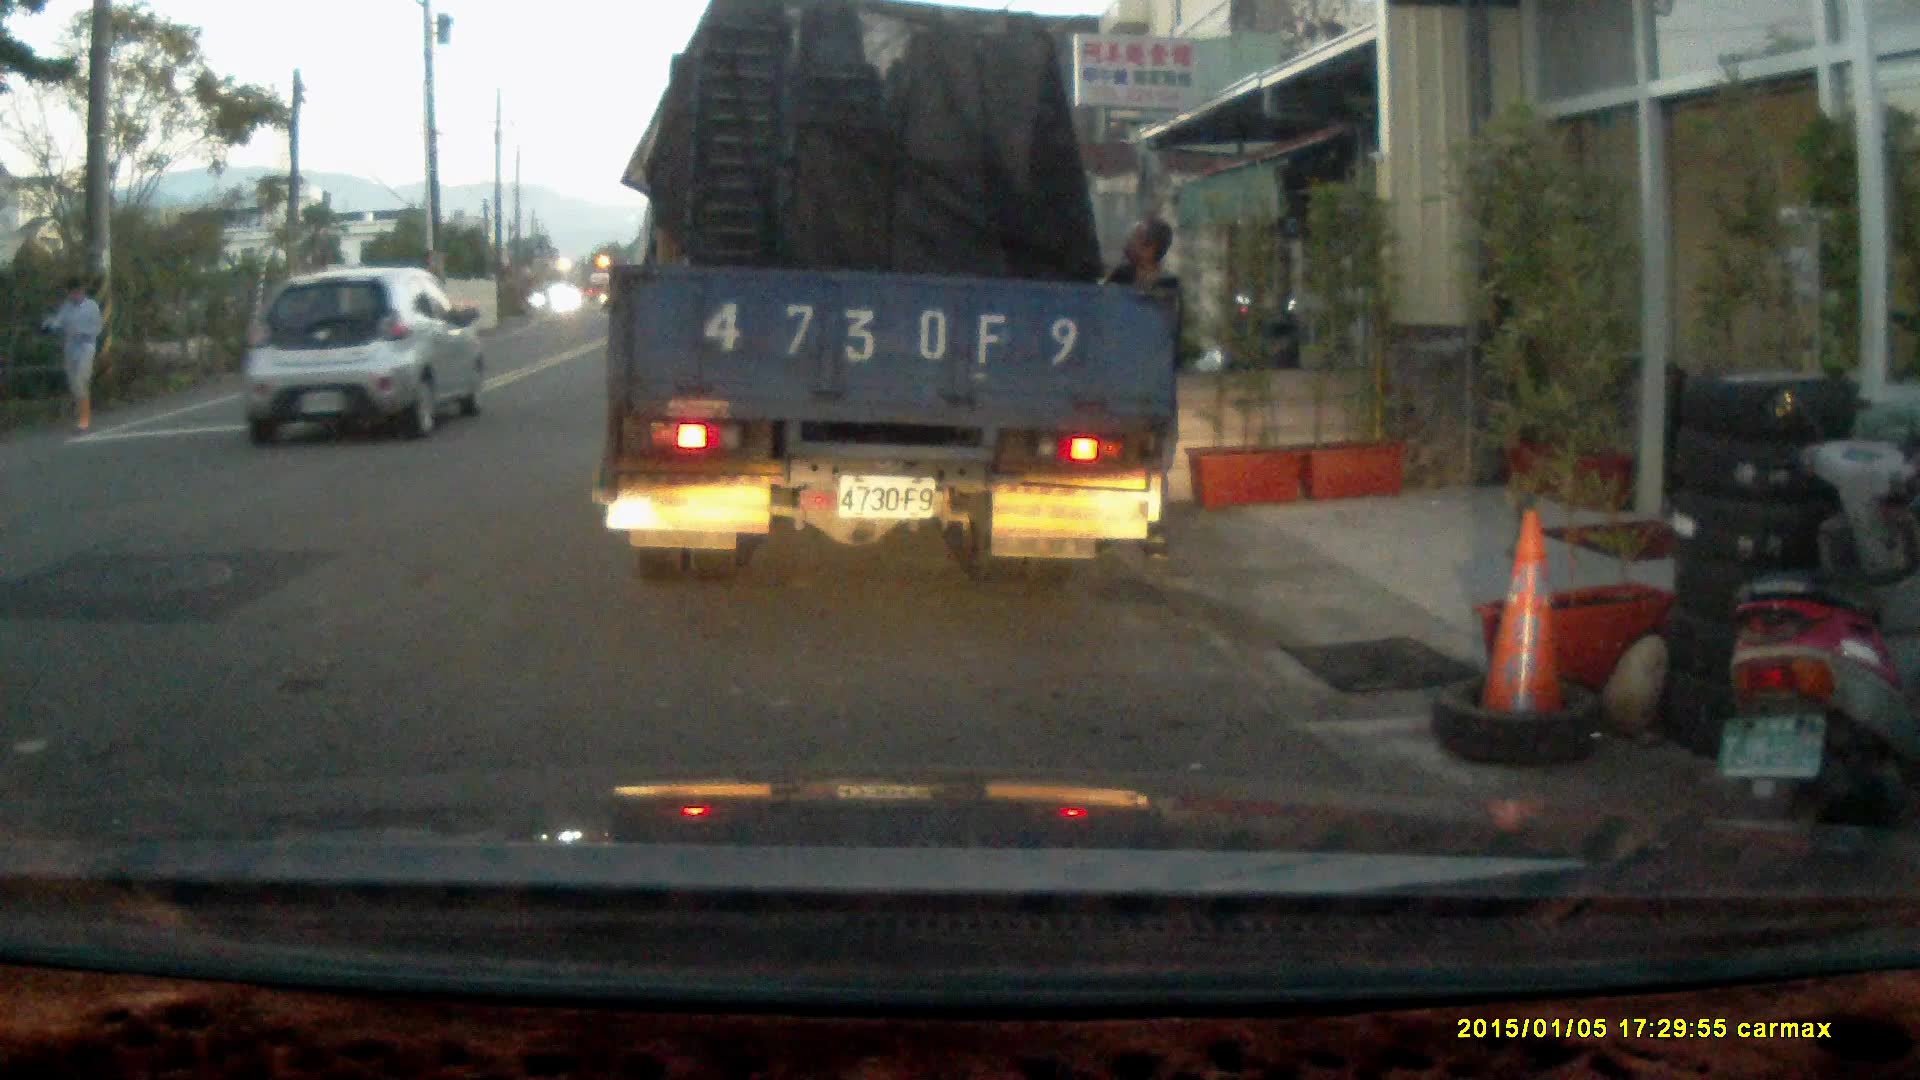pedestrian: (1086, 212, 1188, 566), (38, 276, 105, 427)
vehicle: (602, 23, 1186, 572), (239, 266, 485, 445)
